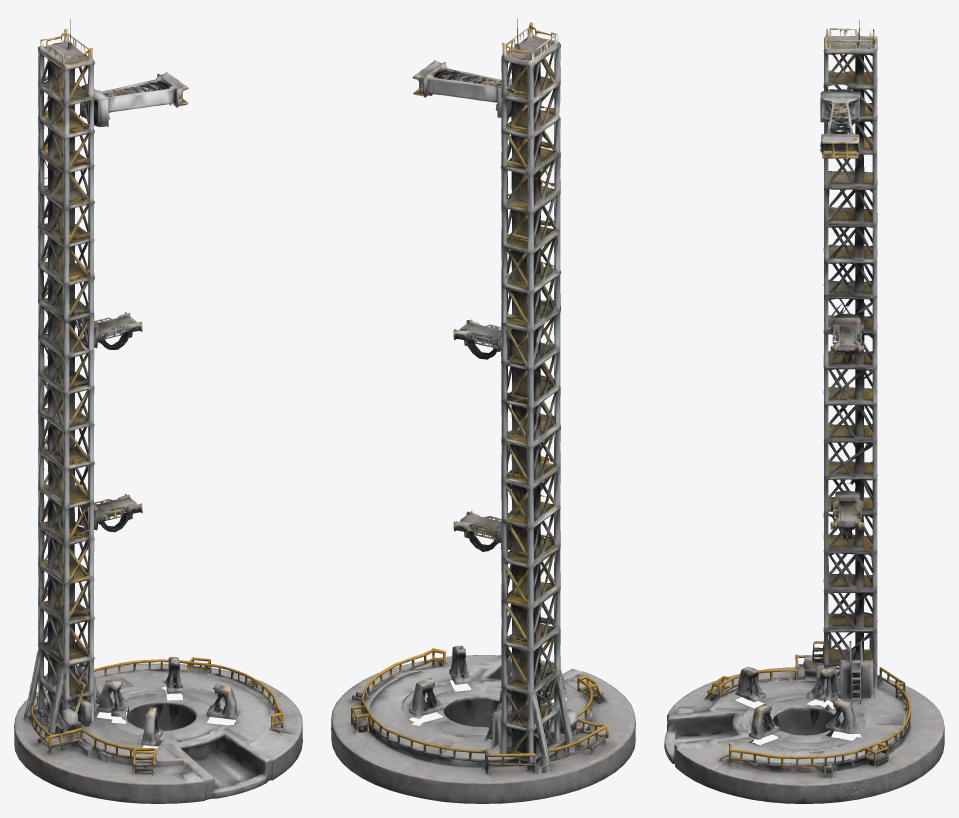
The model's file is launch-pad.glb.
3 renders of one model, left to right at view 1: azimuth 30°, elevation 25°; view 2: azimuth 150°, elevation 25°; view 3: azimuth 270°, elevation 25°, orthographic. The views are drawn at different scales.
Visible parts, largest first — view 1: SM_foundation-shell, SM_tower-lower, SM_tower-upper, SM_crew-arm, SM_umbilical-upper, SM_umbilical-lower, SM_flame-deflector, SM_clamp-nw, SM_clamp-se, SM_access-stairs, SM_clamp-sw; view 2: SM_foundation-shell, SM_tower-lower, SM_tower-upper, SM_crew-arm, SM_umbilical-upper, SM_umbilical-lower, SM_flame-deflector, SM_clamp-ne, SM_clamp-se; view 3: SM_foundation-shell, SM_tower-lower, SM_tower-upper, SM_crew-arm, SM_umbilical-upper, SM_umbilical-lower, SM_flame-deflector, SM_tower-foot-b, SM_clamp-nw, SM_clamp-ne, SM_clamp-se, SM_clamp-sw (+1 smaller).
Part boxes in pixels (x1=…): SM_foundation-shell: x1=14, y1=657, x2=302, y2=803; SM_tower-lower: x1=25, y1=302, x2=97, y2=732; SM_tower-upper: x1=37, y1=19, x2=94, y2=323; SM_crew-arm: x1=80, y1=72, x2=188, y2=126; SM_umbilical-upper: x1=77, y1=312, x2=142, y2=349; SM_umbilical-lower: x1=77, y1=494, x2=142, y2=532; SM_flame-deflector: x1=127, y1=704, x2=195, y2=746; SM_clamp-nw: x1=96, y1=680, x2=128, y2=716; SM_clamp-se: x1=206, y1=684, x2=238, y2=719; SM_access-stairs: x1=130, y1=747, x2=156, y2=775; SM_clamp-sw: x1=141, y1=707, x2=162, y2=746; SM_foundation-shell: x1=331, y1=648, x2=635, y2=803; SM_tower-lower: x1=501, y1=310, x2=578, y2=765; SM_tower-upper: x1=500, y1=18, x2=561, y2=339; SM_crew-arm: x1=412, y1=60, x2=511, y2=117; SM_umbilical-upper: x1=453, y1=319, x2=511, y2=359; SM_umbilical-lower: x1=453, y1=511, x2=511, y2=551; SM_flame-deflector: x1=444, y1=699, x2=498, y2=726; SM_clamp-ne: x1=409, y1=678, x2=443, y2=718; SM_clamp-se: x1=449, y1=645, x2=471, y2=684; SM_foundation-shell: x1=664, y1=654, x2=944, y2=803; SM_tower-lower: x1=803, y1=294, x2=877, y2=691; SM_tower-upper: x1=823, y1=20, x2=877, y2=305; SM_crew-arm: x1=820, y1=89, x2=860, y2=158; SM_umbilical-upper: x1=830, y1=313, x2=863, y2=363; SM_umbilical-lower: x1=829, y1=490, x2=864, y2=539; SM_flame-deflector: x1=777, y1=709, x2=833, y2=737; SM_tower-foot-b: x1=838, y1=641, x2=875, y2=700; SM_clamp-nw: x1=806, y1=667, x2=842, y2=702; SM_clamp-ne: x1=825, y1=699, x2=861, y2=733; SM_clamp-se: x1=749, y1=703, x2=779, y2=739; SM_clamp-sw: x1=735, y1=666, x2=765, y2=702.
Size of the model in its own units: 19.6 by 54 by 19.52.
1 material, 1 textured.
